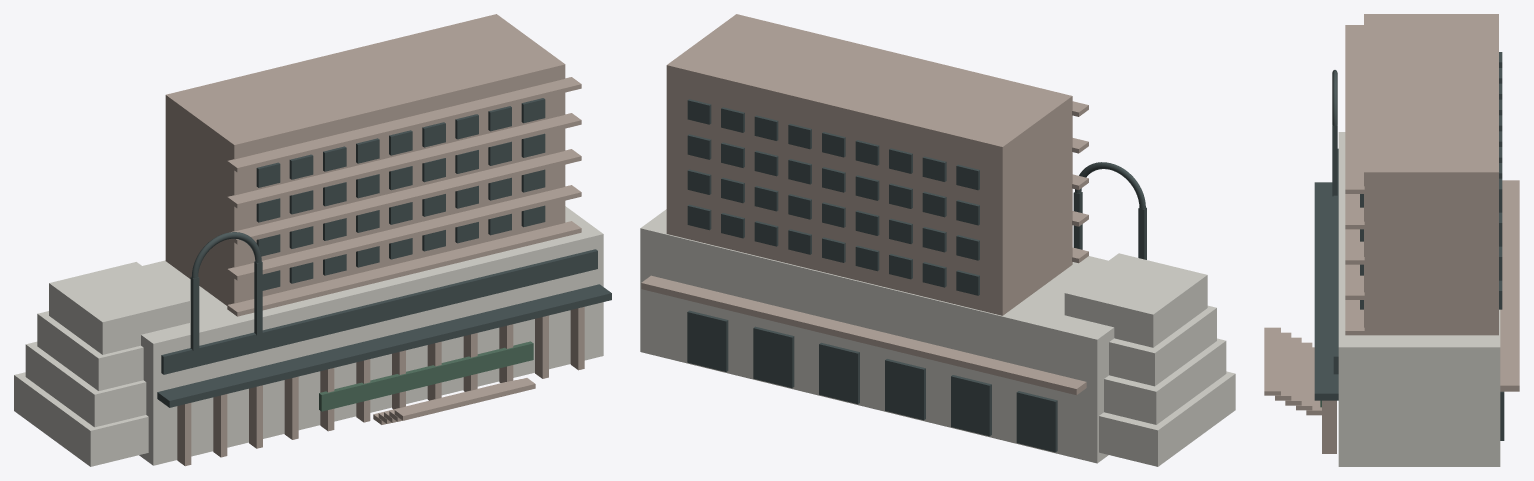
File: tanglin-shopping-centre.glb
3 renders of one model, left to right at view 1: azimuth 30°, elevation 25°; view 2: azimuth 150°, elevation 25°; view 3: azimuth 270°, elevation 25°, orthographic. The views are drawn at different scales.
Visible parts, largest first — view 1: office-slab/form, retail-podium/form, clerestory-band/form, stepped-annex/annex-tier-3, ground-arcade/arcade-soffit, stepped-annex/annex-tier-0, horizontal-ledges/ledge-3, horizontal-ledges/ledge-4, horizontal-ledges/ledge-0, horizontal-ledges/ledge-1, horizontal-ledges/ledge-2, stepped-annex/annex-tier-1 (+14 smaller); view 2: office-slab/form, retail-podium/form, stepped-annex/annex-tier-3, rear-service-elevation/rear-loading-canopy, stepped-annex/annex-tier-0, stepped-annex/annex-tier-1, stepped-annex/annex-tier-2, rear-service-elevation/loading-bay-1, rear-service-elevation/loading-bay-6, rear-service-elevation/loading-bay-5, rear-service-elevation/loading-bay-2, rear-service-elevation/loading-bay-3 (+2 smaller); view 3: office-slab/form, retail-podium/form, ground-arcade/arcade-soffit, rear-service-elevation/rear-loading-canopy, horizontal-ledges/ledge-4, entrance-stairs/entry-step-4, clerestory-band/form, entrance-stairs/entry-step-1, ground-arcade/arcade-pier-12, entrance-stairs/entry-step-2, entrance-stairs/entry-step-3, horizontal-ledges/ledge-0 (+6 smaller).
Boxes of the visible parts, box(x1,y1,x2,y2) form: office-slab/form: box(165, 14, 565, 305); retail-podium/form: box(139, 206, 603, 465); clerestory-band/form: box(161, 249, 597, 374); stepped-annex/annex-tier-3: box(49, 262, 189, 354); ground-arcade/arcade-soffit: box(157, 284, 611, 407); stepped-annex/annex-tier-0: box(14, 372, 148, 466); horizontal-ledges/ledge-3: box(227, 113, 581, 208); horizontal-ledges/ledge-4: box(227, 77, 581, 172); horizontal-ledges/ledge-0: box(227, 221, 581, 316); horizontal-ledges/ledge-1: box(227, 185, 581, 280); horizontal-ledges/ledge-2: box(230, 149, 581, 244); stepped-annex/annex-tier-1: box(25, 341, 146, 427); office-slab/form: box(666, 14, 1072, 315); retail-podium/form: box(640, 209, 1114, 463); stepped-annex/annex-tier-3: box(1064, 253, 1207, 347); rear-service-elevation/rear-loading-canopy: box(641, 275, 1086, 395); stepped-annex/annex-tier-0: box(1099, 371, 1235, 466); stepped-annex/annex-tier-1: box(1104, 338, 1226, 424); stepped-annex/annex-tier-2: box(1109, 305, 1216, 386); rear-service-elevation/loading-bay-1: box(1016, 391, 1057, 452); rear-service-elevation/loading-bay-6: box(687, 310, 728, 371); rear-service-elevation/loading-bay-5: box(753, 326, 794, 387); rear-service-elevation/loading-bay-2: box(951, 375, 991, 436); rear-service-elevation/loading-bay-3: box(885, 359, 925, 420); office-slab/form: box(1364, 14, 1498, 335); retail-podium/form: box(1338, 132, 1500, 466); ground-arcade/arcade-soffit: box(1314, 182, 1338, 400); rear-service-elevation/rear-loading-canopy: box(1500, 180, 1519, 391); horizontal-ledges/ledge-4: box(1345, 25, 1364, 193); entrance-stairs/entry-step-4: box(1264, 327, 1280, 395); clerestory-band/form: box(1333, 148, 1338, 374); entrance-stairs/entry-step-1: box(1296, 342, 1312, 410); ground-arcade/arcade-pier-12: box(1322, 400, 1336, 453); entrance-stairs/entry-step-2: box(1285, 337, 1301, 405); entrance-stairs/entry-step-3: box(1275, 332, 1291, 400); horizontal-ledges/ledge-0: box(1345, 300, 1364, 335).
Bounding box in the file's own units: 19.2 × 10.4 × 8.51.
